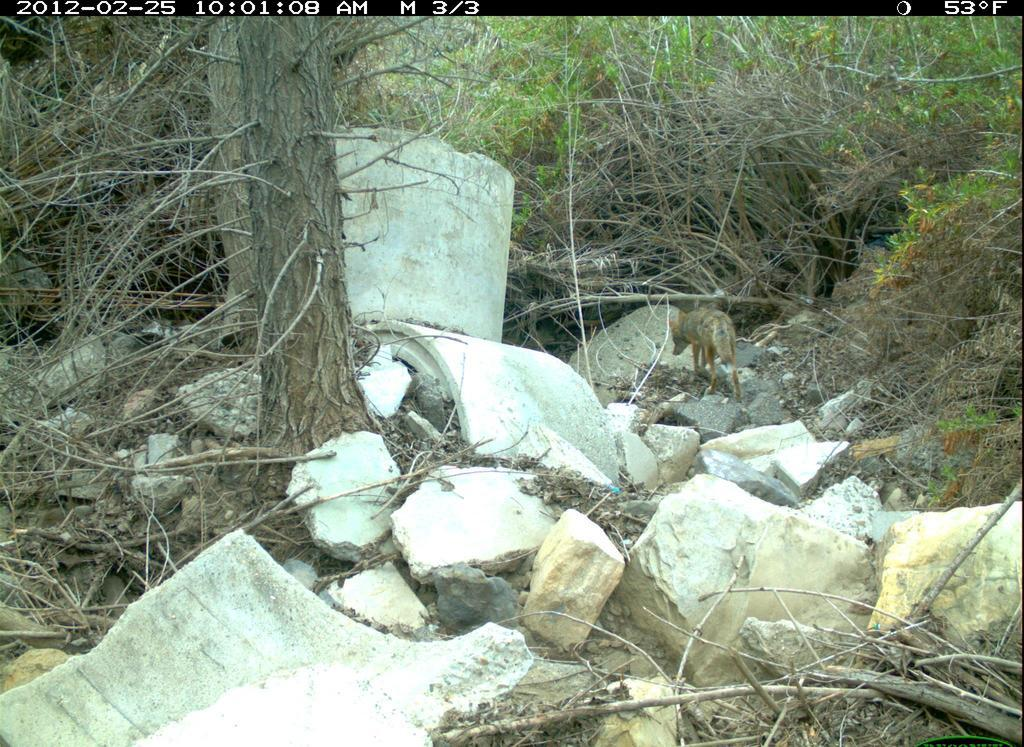coyote: (665, 296, 763, 400)
